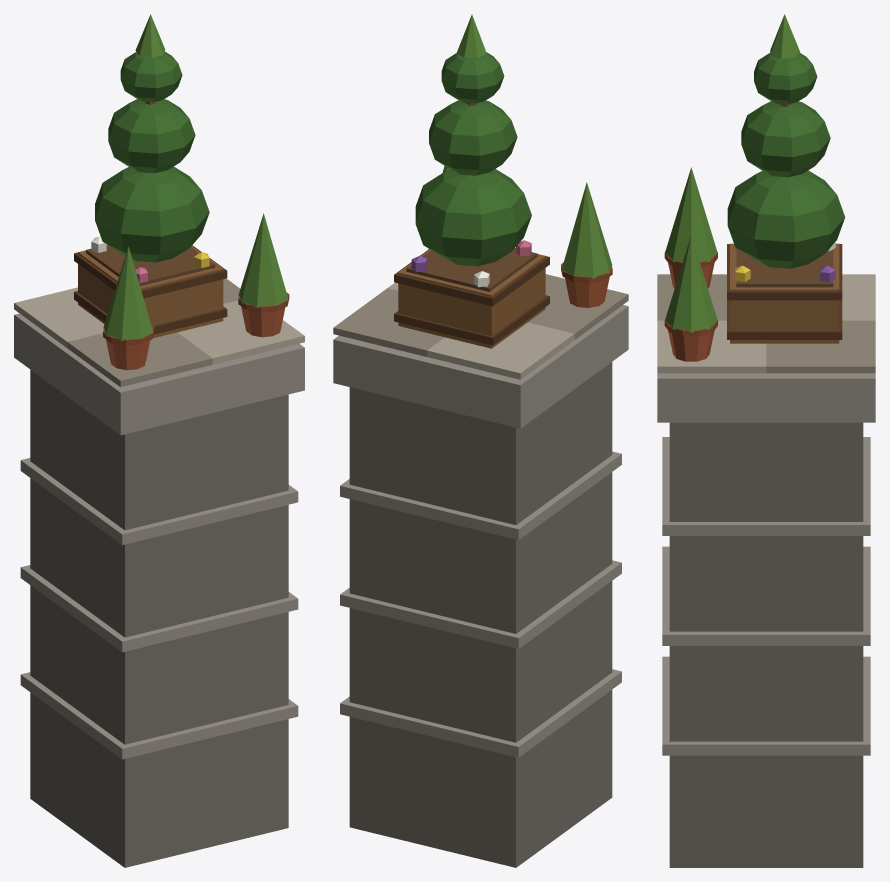
The model's file is decor_topiary.glb.
3 views of the same model, side by side, from view 1: azimuth 30°, elevation 25°; view 2: azimuth 150°, elevation 25°; view 3: azimuth 270°, elevation 25° (orthographic). The views are drawn at different scales.
Visible parts, largest first — view 1: decor_topiary; view 2: decor_topiary; view 3: decor_topiary.
Part boxes in pixels (x1,y1,x2,y2): decor_topiary: [14, 14, 304, 867]; decor_topiary: [333, 14, 628, 867]; decor_topiary: [657, 14, 875, 867].
Bounding box in the file's own units: 1.8 × 7.4 × 1.8.
